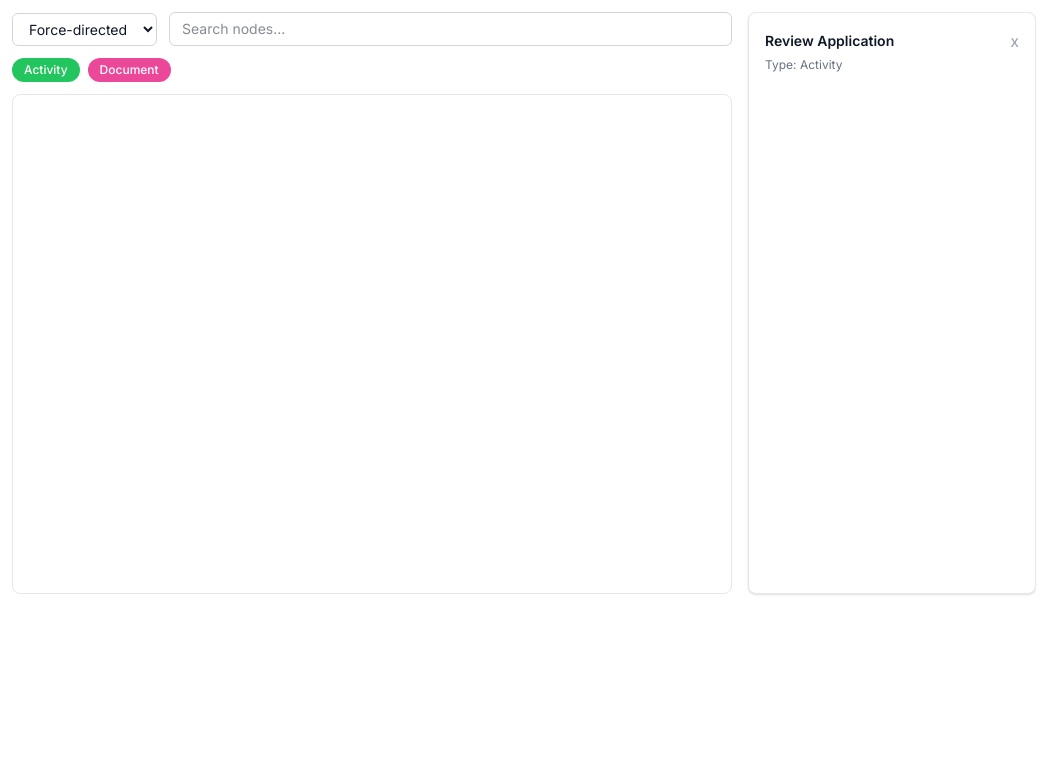
Scenario: GraphExplorer › closes node detail panel via close button
Check: the heading "Review Application" is shown, box [765,31,894,51]
Click the button named "Close node details". click: click(1015, 41)
box: [1010,29,1019,53]
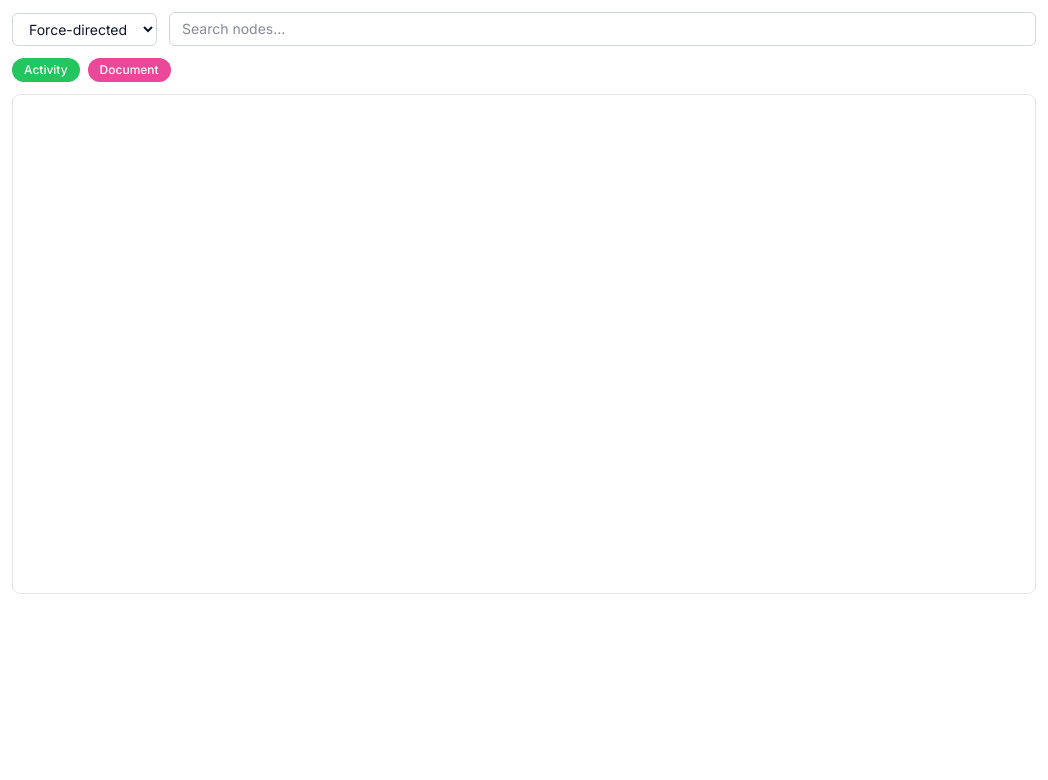
Check: the text "Type: Activity" is gone
